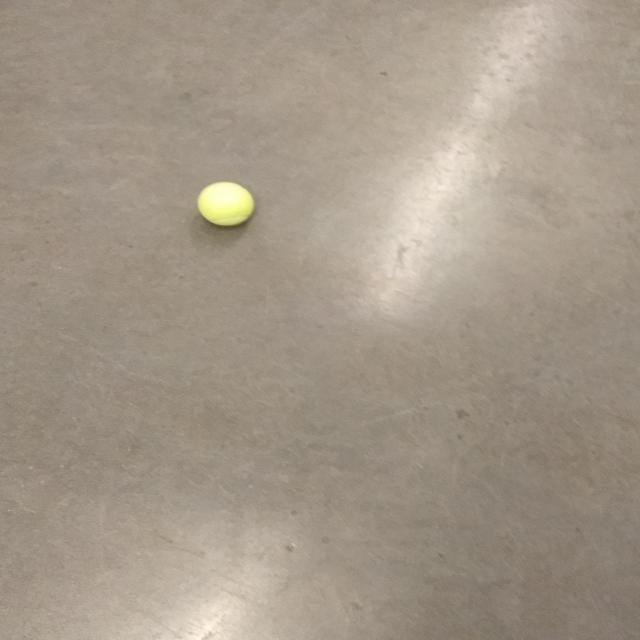Tennis-Ball: (198, 178, 257, 228)
